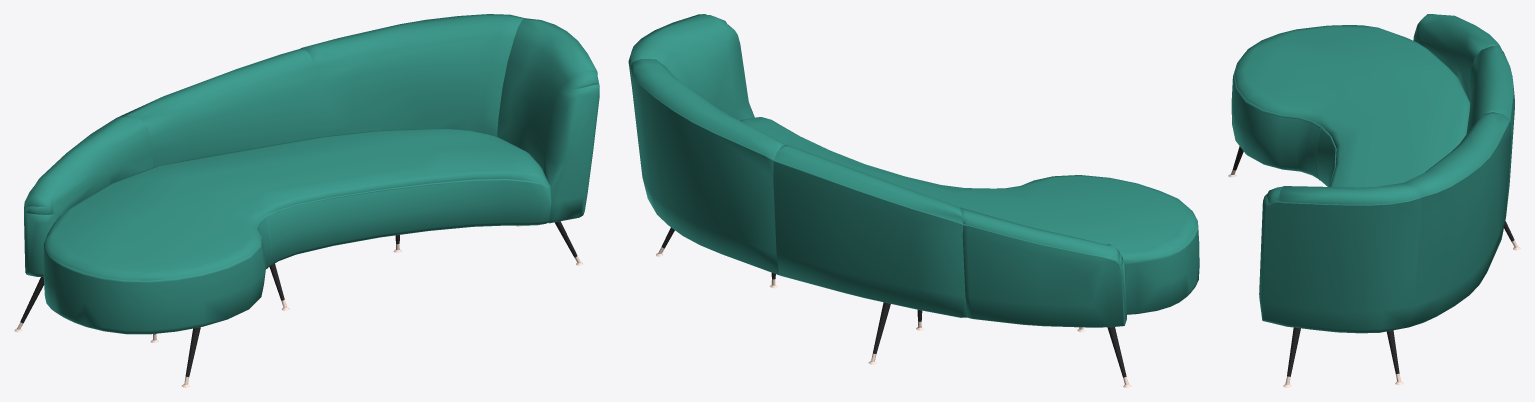
Rendered from sofa.glb.
3 views of the same model, side by side, from view 1: azimuth 30°, elevation 25°; view 2: azimuth 150°, elevation 25°; view 3: azimuth 270°, elevation 25° (orthographic). The views are drawn at different scales.
Parts seen in each view (by area): view 1: GlamVelvetSofa_fabric, GlamVelvetSofa_legs; view 2: GlamVelvetSofa_fabric, GlamVelvetSofa_legs; view 3: GlamVelvetSofa_fabric, GlamVelvetSofa_legs.
Boxes of the visible parts, x1=… form: GlamVelvetSofa_fabric: x1=24, y1=14, x2=599, y2=334; GlamVelvetSofa_legs: x1=20, y1=221, x2=577, y2=376; GlamVelvetSofa_fabric: x1=628, y1=14, x2=1199, y2=327; GlamVelvetSofa_legs: x1=661, y1=227, x2=1126, y2=377; GlamVelvetSofa_fabric: x1=1231, y1=14, x2=1514, y2=333; GlamVelvetSofa_legs: x1=1233, y1=146, x2=1514, y2=376.
Bounding box in the file's own units: 2.19 × 0.7875 × 1.02.
